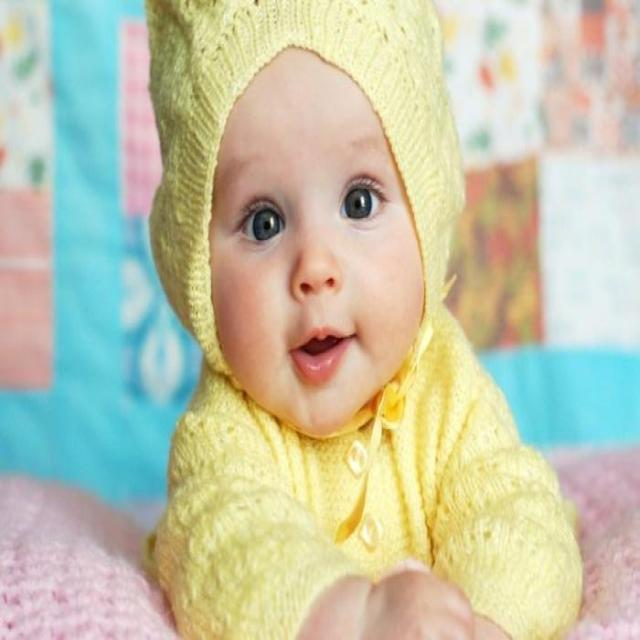non-dog: (137, 2, 584, 640)
